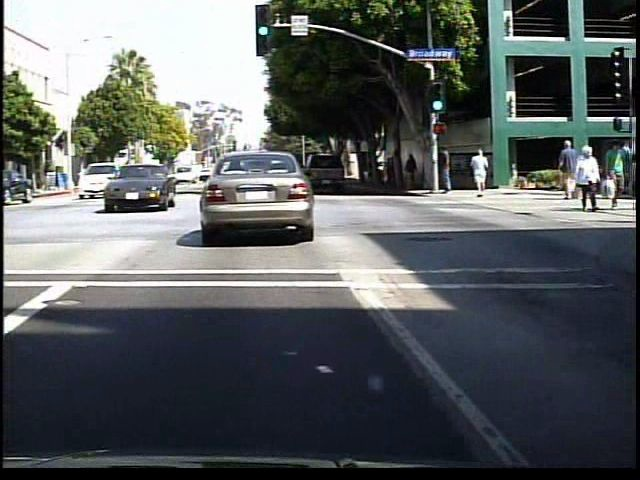person: (575, 143, 606, 213), (605, 142, 630, 210), (560, 140, 585, 203), (470, 146, 494, 201), (441, 142, 461, 201), (407, 151, 424, 191), (391, 154, 404, 190)
